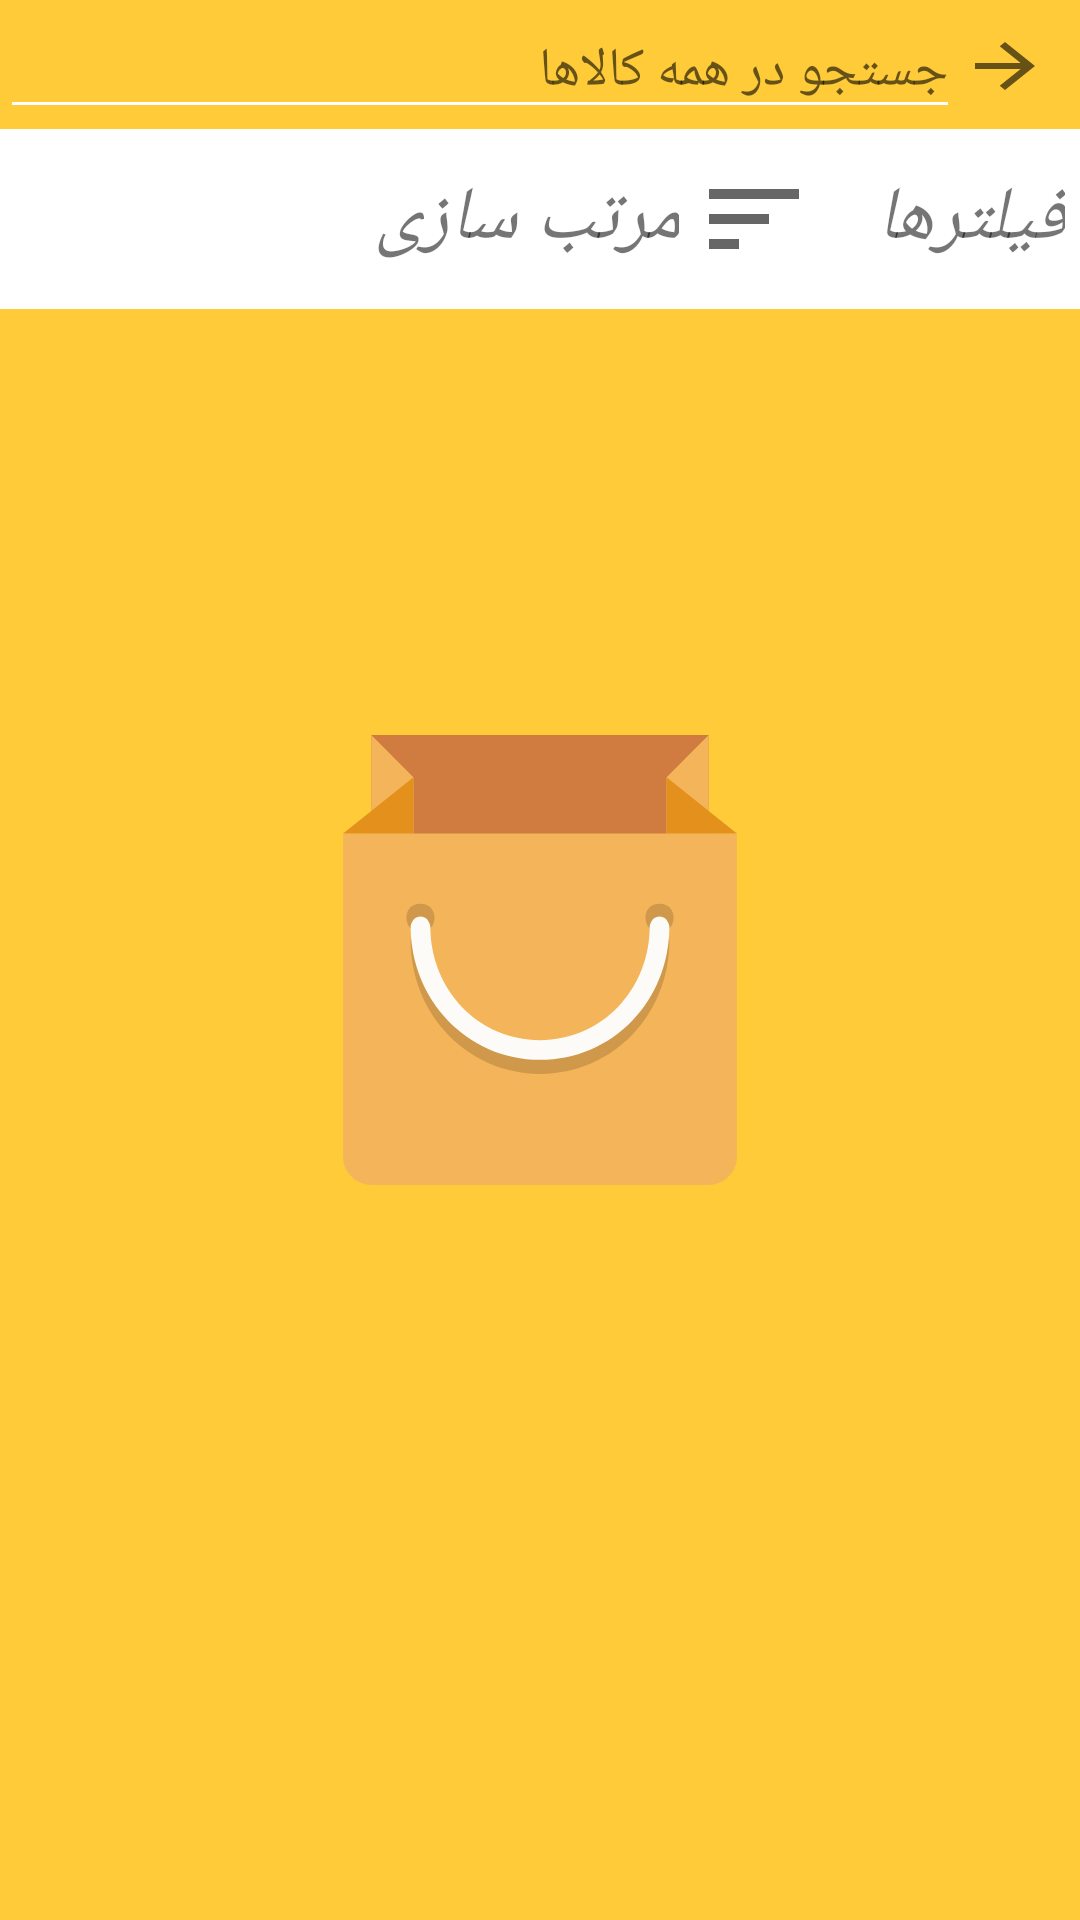

Icons on this 1080×1920 Android screen, each with the point to tap as (x=x, y=y):
arrow forward: (x=1005, y=66)
sort: (x=754, y=219)
